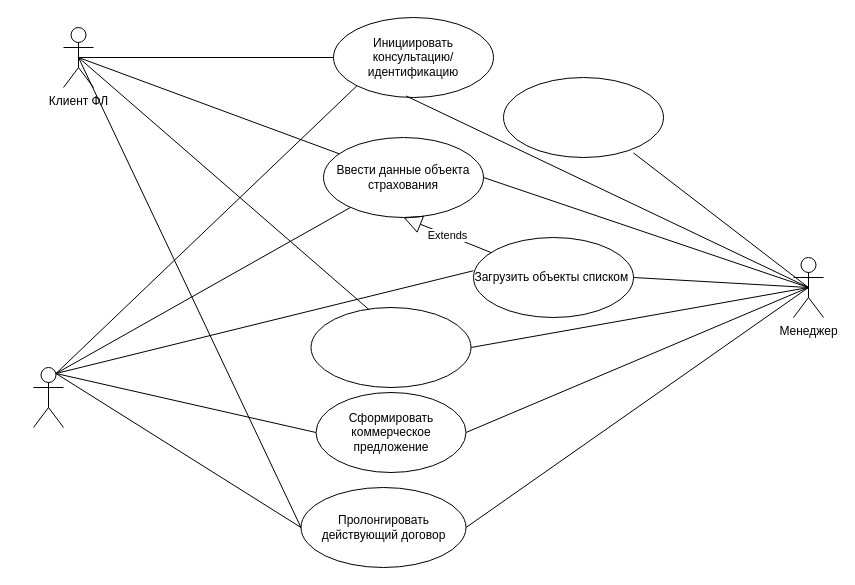
The diagram is 855 pixels wide and 585 high, and some of its shapes have lost their labels. Here are the shapes that lost their labels. From the top down, the box of each, then its label:
(502, 76, 664, 158): Выбрать страховой продукт
(310, 306, 471, 388): Выполнить предварительный расчет премии
(32, 366, 64, 428): Клиент ЮЛ
